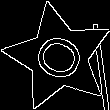O_SE: (26, 26, 91, 88)
